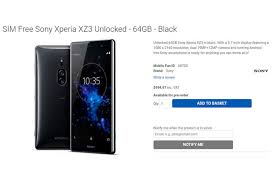sony: (69, 39, 119, 155)
